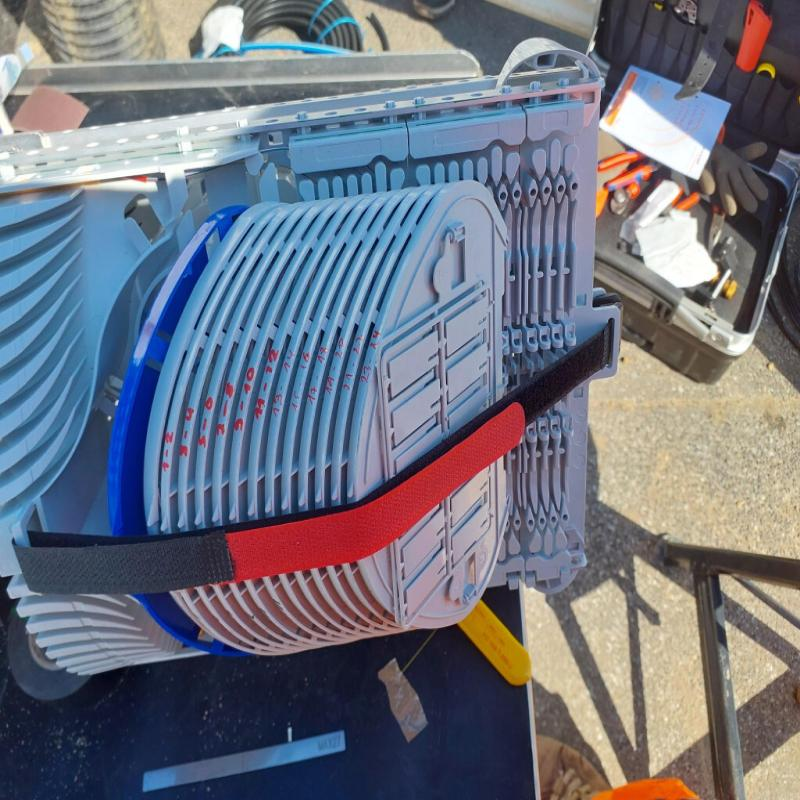NT-Muffen: (4, 89, 605, 652)
